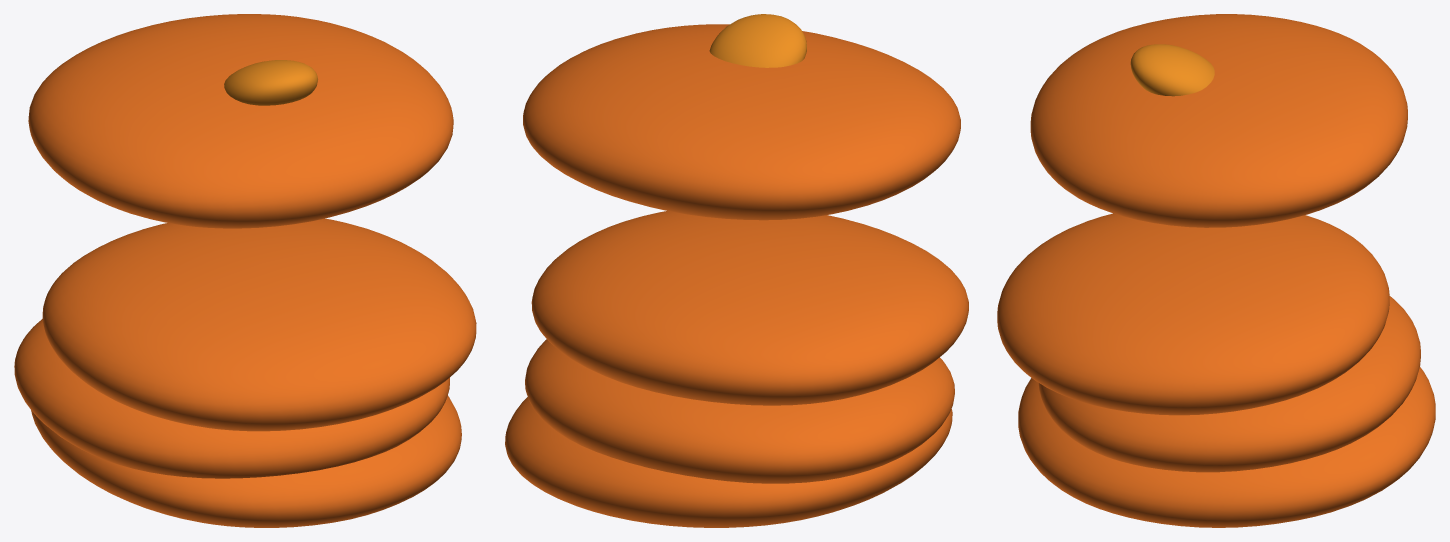
Rendered from maple-pancakes-animated1.glb.
3 renders of one model, left to right at view 1: azimuth 30°, elevation 25°; view 2: azimuth 150°, elevation 25°; view 3: azimuth 270°, elevation 25°, orthographic. The views are drawn at different scales.
Parts seen in each view (by area): view 1: Cube.002, Cube.003, Cube.001, Cube, Cube.004; view 2: Cube.002, Cube.003, Cube.001, Cube, Cube.004; view 3: Cube.002, Cube.003, Cube, Cube.001, Cube.004.
Boxes of the visible parts, bbox=[...] form: Cube.002: bbox=[42, 218, 476, 431]; Cube.003: bbox=[28, 14, 453, 228]; Cube.001: bbox=[14, 319, 449, 478]; Cube: bbox=[31, 395, 461, 527]; Cube.004: bbox=[224, 60, 317, 105]; Cube.002: bbox=[531, 211, 968, 405]; Cube.003: bbox=[523, 24, 960, 220]; Cube.001: bbox=[525, 339, 954, 483]; Cube: bbox=[505, 397, 952, 527]; Cube.004: bbox=[709, 14, 806, 67]; Cube.002: bbox=[997, 213, 1389, 415]; Cube.003: bbox=[1030, 14, 1407, 227]; Cube: bbox=[1018, 367, 1435, 527]; Cube.001: bbox=[1038, 296, 1420, 472]; Cube.004: bbox=[1130, 44, 1214, 96].
Bounding box in the file's own units: 7.8 × 8.38 × 8.01.
